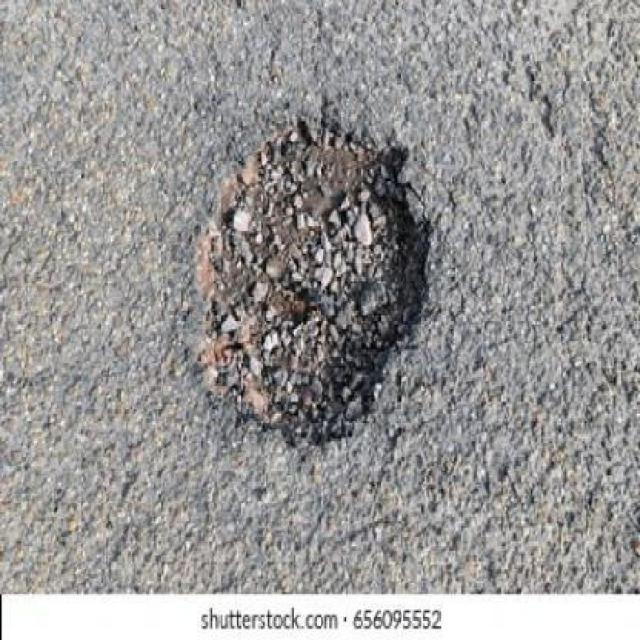Pothole: (182, 111, 435, 448)
